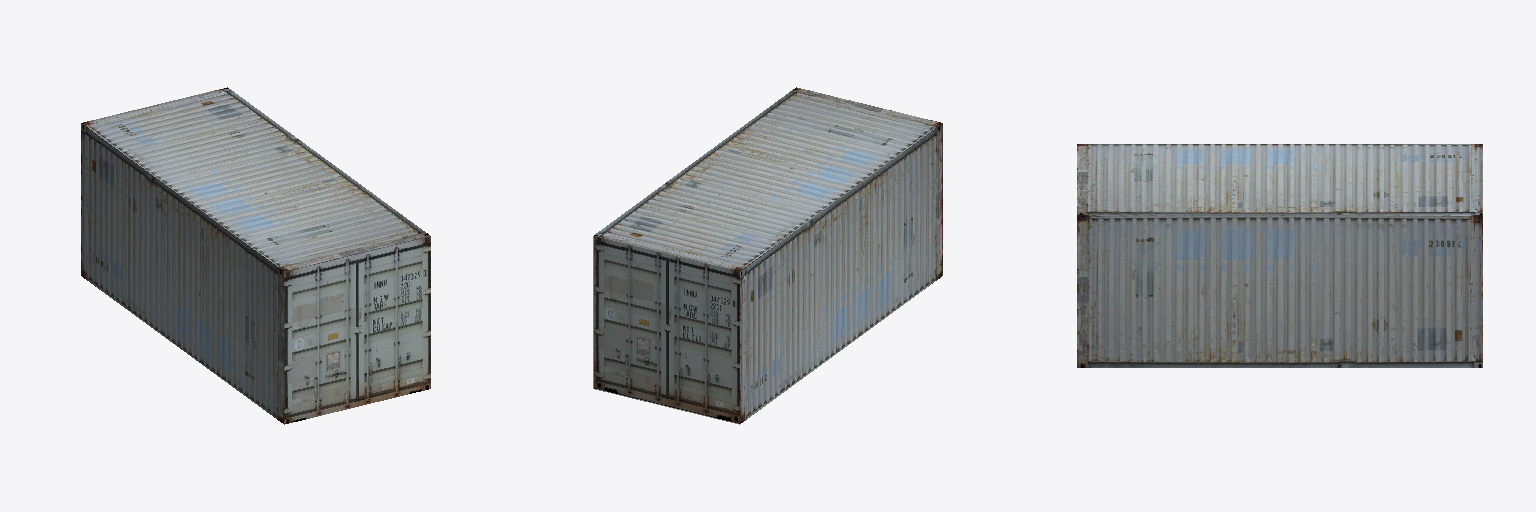
3 views of the same model, side by side, from view 1: azimuth 30°, elevation 25°; view 2: azimuth 150°, elevation 25°; view 3: azimuth 270°, elevation 25° (orthographic).
Parts seen in each view (by area): view 1: Cube; view 2: Cube; view 3: Cube.
Part boxes in pixels (left/top/right/bottom): Cube: left=81, top=87, right=430, bottom=424; Cube: left=593, top=87, right=942, bottom=424; Cube: left=1077, top=144, right=1482, bottom=367.
Size of the model in its own units: 1 by 1 by 2.4.
1 materials, 1 textured.